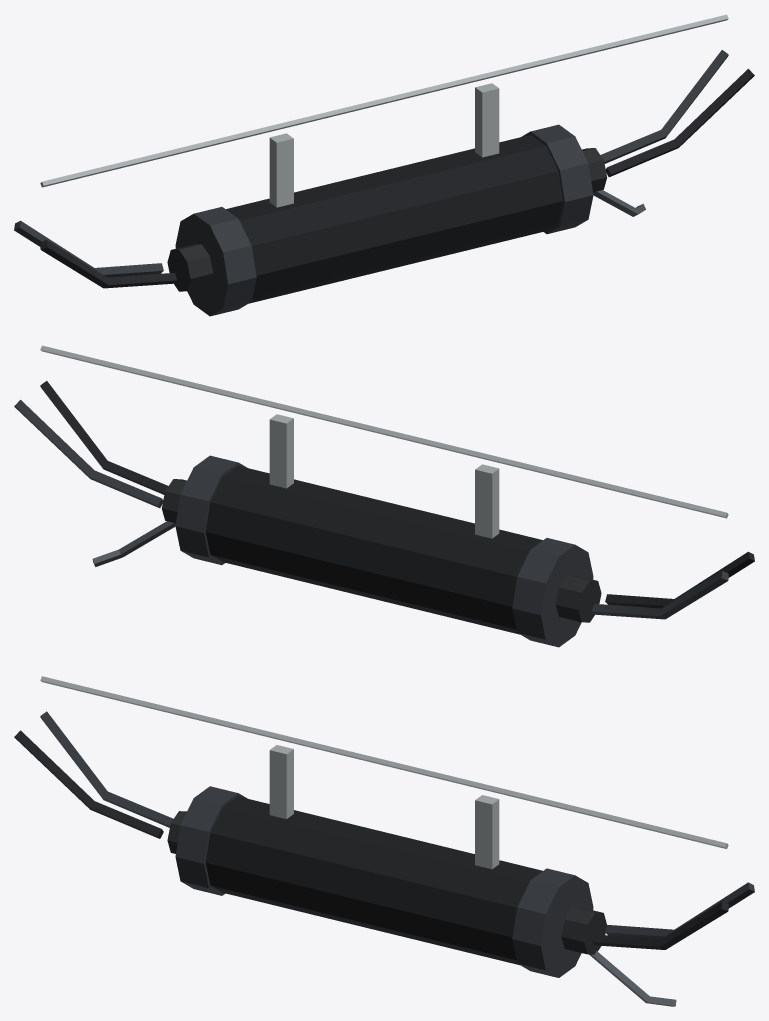
Rendered from SC_Util_Splice_Closure.gltf.
3 renders of one model, top to bottom at view 1: azimuth 30°, elevation 25°; view 2: azimuth 150°, elevation 25°; view 3: azimuth 330°, elevation 25°, orthographic.
Visible parts, largest first — view 1: SC_Util_Splice_Closure; view 2: SC_Util_Splice_Closure; view 3: SC_Util_Splice_Closure.
Boxes of the visible parts, x1=… form: SC_Util_Splice_Closure: x1=14, y1=14, x2=754, y2=316; SC_Util_Splice_Closure: x1=14, y1=345, x2=754, y2=647; SC_Util_Splice_Closure: x1=14, y1=676, x2=754, y2=1006.
Size of the model in its own units: 1.25 by 0.3226 by 0.16.
1 material, 1 textured.
